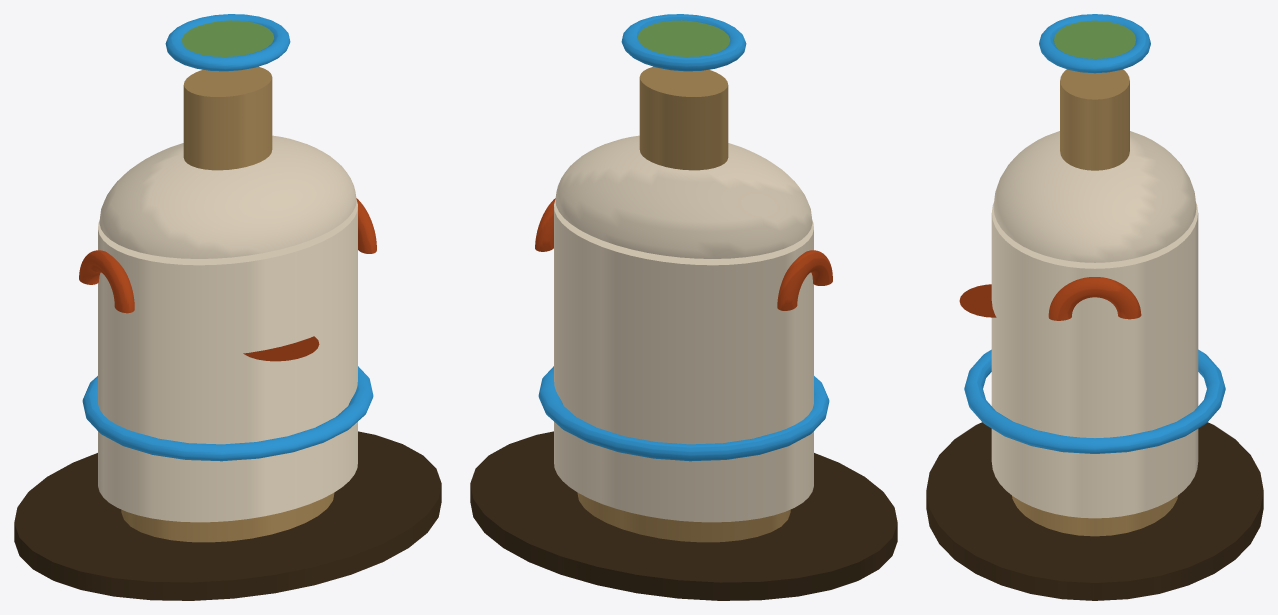
Rendered from 1189_唐图鉴_胡旋舞.glb.
3 views of the same model, side by side, from view 1: azimuth 30°, elevation 25°; view 2: azimuth 150°, elevation 25°; view 3: azimuth 270°, elevation 25° (orthographic). The views are drawn at different scales.
Parts seen in each view (by area): view 1: card_1189; view 2: card_1189; view 3: card_1189.
Part boxes in pixels (<box>): card_1189: <box>14,14,441,600</box>; card_1189: <box>470,14,897,600</box>; card_1189: <box>926,14,1263,600</box>.
Size of the model in its own units: 0.8425 by 1 by 0.6492.
